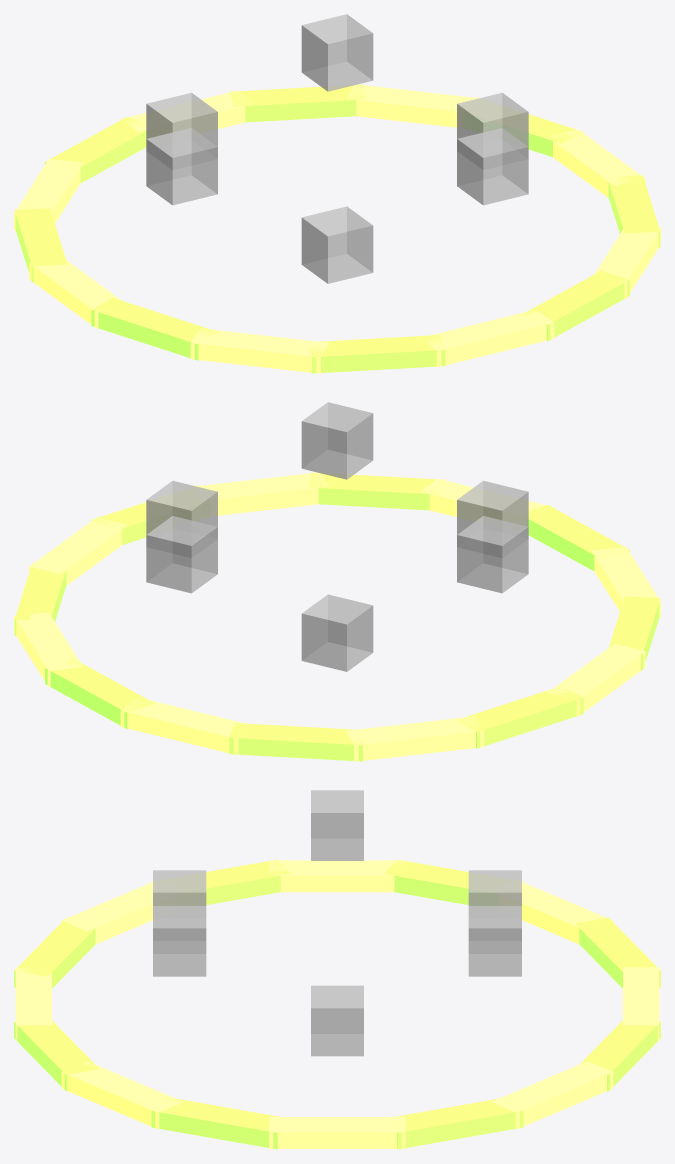
Rendered from FXToxicRing.fbx.
3 renders of one model, top to bottom at view 1: azimuth 30°, elevation 25°; view 2: azimuth 150°, elevation 25°; view 3: azimuth 270°, elevation 25°, orthographic.
Visible parts, largest first — view 1: FX Toxic Ring_body_17, FX Toxic Ring_body_20, FX Toxic Ring_body_21, FX Toxic Ring_body_19, FX Toxic Ring_body_10, FX Toxic Ring_body_11, FX Toxic Ring_body_12, FX Toxic Ring_body_3, FX Toxic Ring_body_9, FX Toxic Ring_body_2, FX Toxic Ring_body_13, FX Toxic Ring_body_4 (+10 smaller); view 2: FX Toxic Ring_body_18, FX Toxic Ring_body_21, FX Toxic Ring_body_17, FX Toxic Ring_body_19, FX Toxic Ring_body_6, FX Toxic Ring_body_5, FX Toxic Ring_body_13, FX Toxic Ring_body_7, FX Toxic Ring_body_4, FX Toxic Ring_body_14, FX Toxic Ring_body_3, FX Toxic Ring_body_8 (+10 smaller); view 3: FX Toxic Ring_body_0, FX Toxic Ring_body_8, FX Toxic Ring_body_17, FX Toxic Ring_body_21, FX Toxic Ring_body_16, FX Toxic Ring_body_15, FX Toxic Ring_body_19, FX Toxic Ring_body_1, FX Toxic Ring_body_2, FX Toxic Ring_body_7, FX Toxic Ring_body_14, FX Toxic Ring_body_9 (+10 smaller).
Part boxes in pixels (box(x1,y1,x2,y2)): FX Toxic Ring_body_17: box(301, 14, 373, 91); FX Toxic Ring_body_20: box(301, 206, 373, 283); FX Toxic Ring_body_21: box(457, 128, 528, 205); FX Toxic Ring_body_19: box(146, 128, 217, 205); FX Toxic Ring_body_10: box(190, 328, 329, 373); FX Toxic Ring_body_11: box(309, 335, 445, 373); FX Toxic Ring_body_12: box(423, 310, 554, 367); FX Toxic Ring_body_3: box(229, 84, 366, 122); FX Toxic Ring_body_9: box(91, 298, 219, 360); FX Toxic Ring_body_2: box(346, 84, 481, 127); FX Toxic Ring_body_13: box(520, 270, 629, 340); FX Toxic Ring_body_4: box(120, 90, 254, 137); FX Toxic Ring_body_18: box(301, 594, 373, 671); FX Toxic Ring_body_21: box(301, 402, 373, 479); FX Toxic Ring_body_17: box(146, 516, 217, 593); FX Toxic Ring_body_19: box(457, 516, 528, 593); FX Toxic Ring_body_6: box(345, 716, 484, 761); FX Toxic Ring_body_5: box(229, 723, 364, 761); FX Toxic Ring_body_13: box(308, 472, 445, 510); FX Toxic Ring_body_7: box(457, 688, 583, 748); FX Toxic Ring_body_4: box(120, 698, 253, 755); FX Toxic Ring_body_14: box(198, 472, 329, 515); FX Toxic Ring_body_3: box(45, 658, 154, 728); FX Toxic Ring_body_8: box(547, 643, 645, 716); FX Toxic Ring_body_0: box(269, 1117, 405, 1148); FX Toxic Ring_body_8: box(269, 860, 405, 892); FX Toxic Ring_body_17: box(468, 906, 521, 976); FX Toxic Ring_body_21: box(153, 906, 206, 976); FX Toxic Ring_body_16: box(311, 985, 363, 1056); FX Toxic Ring_body_15: box(151, 1097, 279, 1149); FX Toxic Ring_body_19: box(311, 790, 363, 860); FX Toxic Ring_body_1: box(387, 1098, 523, 1149); FX Toxic Ring_body_2: box(491, 1061, 613, 1129); FX Toxic Ring_body_7: box(384, 859, 523, 905); FX Toxic Ring_body_14: box(61, 1061, 182, 1129); FX Toxic Ring_body_9: box(151, 859, 290, 905).
Bounding box in the file's own units: 426 × 97.5 × 426.
